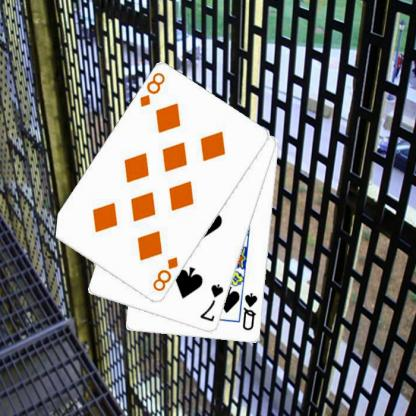7S: (198, 282, 226, 323)
8D: (150, 254, 179, 293), (137, 70, 166, 109)
QS: (240, 290, 259, 332)
